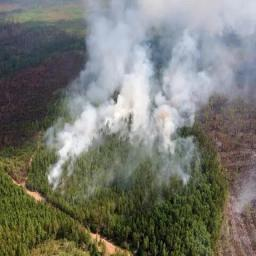Heavy smoke: (96, 0, 157, 132), (67, 118, 93, 158)
Low smoke: (169, 3, 256, 107), (95, 134, 199, 200)
